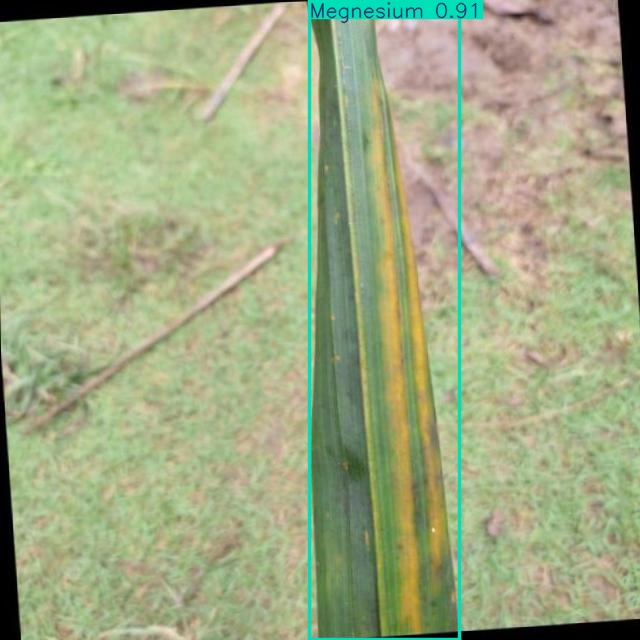Megnesium: (310, 0, 460, 639)
